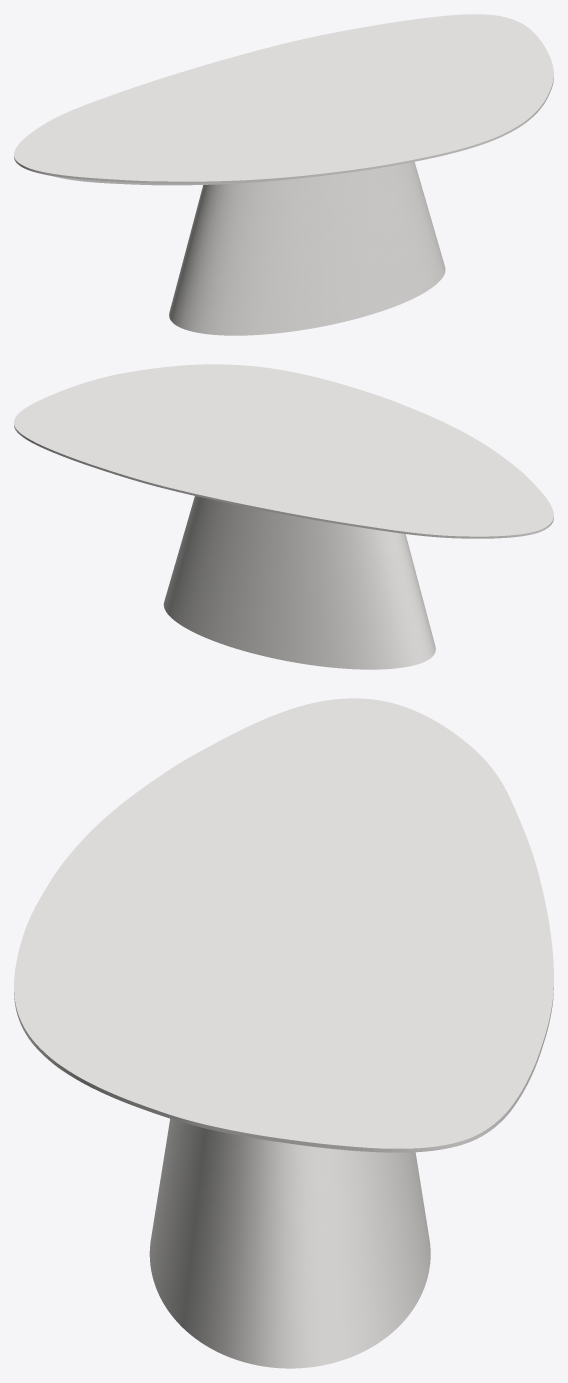
File: purewhite_pebbletop_facet_eqone.glb
The picture shows the model from 3 angles, top to bottom: view 1: azimuth 30°, elevation 25°; view 2: azimuth 150°, elevation 25°; view 3: azimuth 270°, elevation 25°; orthographic projection. The views are drawn at different scales.
Parts seen in each view (by area): view 1: facet_pebbletop, eqone; view 2: facet_pebbletop, eqone; view 3: facet_pebbletop, eqone.
Boxes of the visible parts, <box> form: facet_pebbletop: <box>14,14,553,185</box>; eqone: <box>169,162,445,335</box>; facet_pebbletop: <box>14,364,553,538</box>; eqone: <box>163,496,435,669</box>; facet_pebbletop: <box>14,698,553,1152</box>; eqone: <box>149,1118,430,1368</box>.
Bounding box in the file's own units: 7.5 × 2.5 × 3.8.
Materials: 1 (1 with a texture image).
